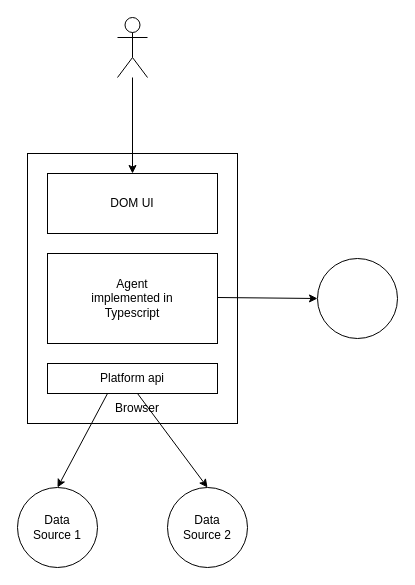
This 415x585 diagram has some shape labels left out. The shapes that lost their labels are listed below. From the top down, each one's centre as x and y in pixels, then its label:
At [132,47]: "user".
At [357,298]: "LLM API".
